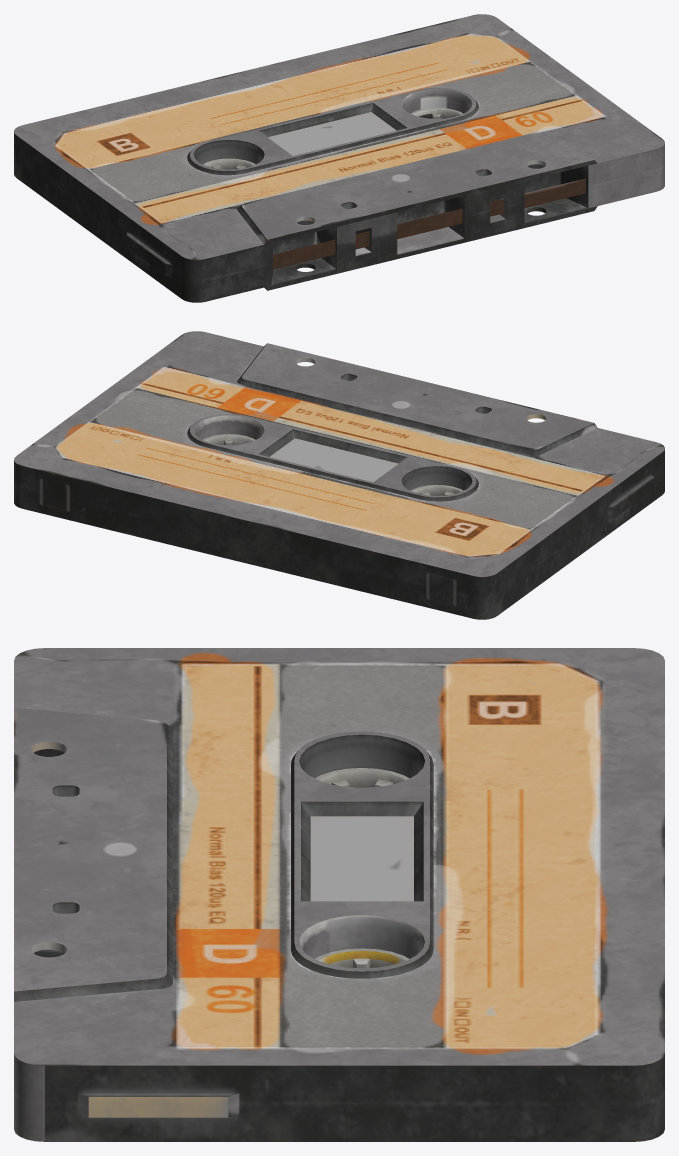
File: caset1.glb
The picture shows the model from 3 angles, top to bottom: view 1: azimuth 30°, elevation 25°; view 2: azimuth 150°, elevation 25°; view 3: azimuth 270°, elevation 25°; orthographic projection. The views are drawn at different scales.
Parts seen in each view (by area): view 1: Object_14; view 2: Object_14; view 3: Object_14.
Boxes of the visible parts, <box> form: Object_14: <box>14,14,664,302</box>; Object_14: <box>14,331,664,619</box>; Object_14: <box>14,648,664,1141</box>.
Size of the model in its own units: 0.1017 by 0.0102 by 0.0659.
1 material, 1 textured.
